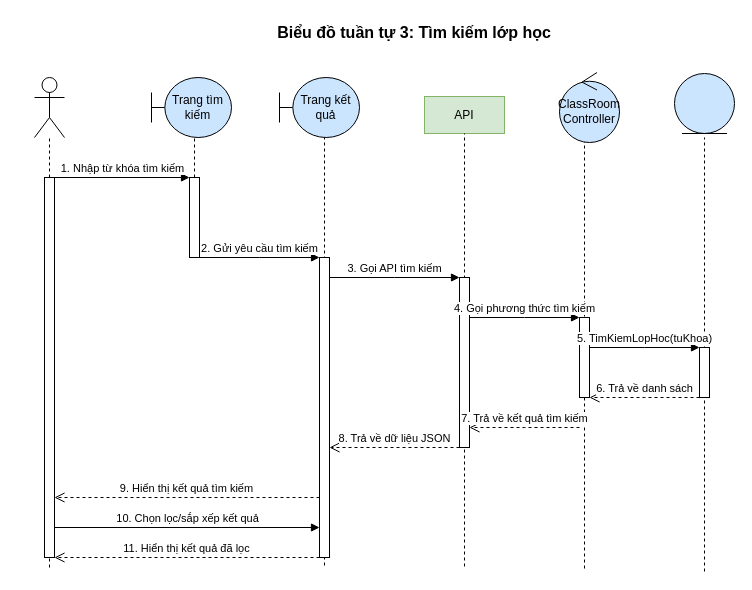
This 752x590 diagram has some shape labels left out. The shapes that lost their labels are listed below. From the top down, each one's centre as x and y in pixels, then its label:
At pixel 49 107: "Người dùng".
At pixel 704 103: "ClassRoom".
